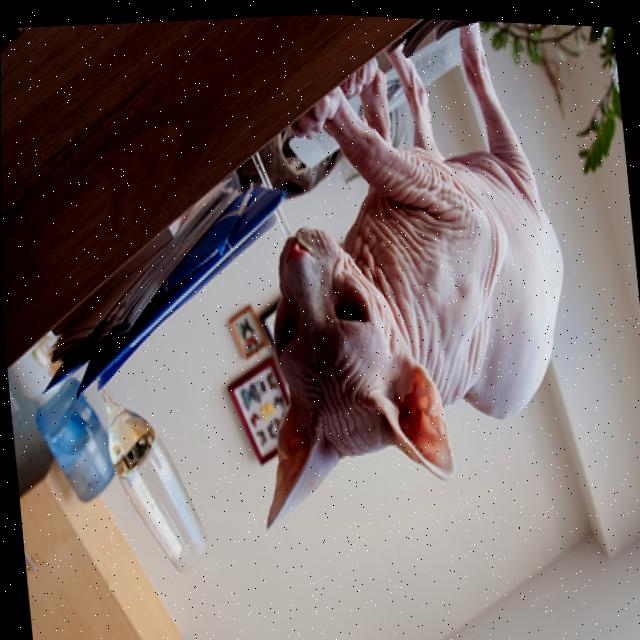Sphynx: (214, 7, 589, 545)
